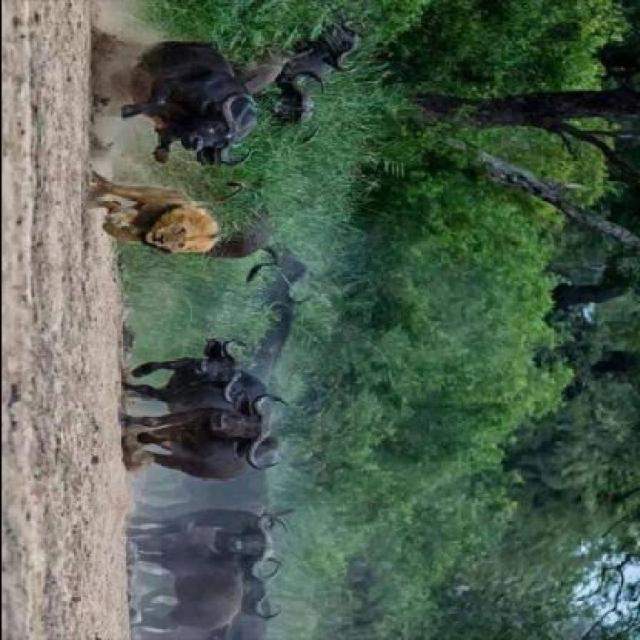Lion: (72, 176, 252, 262)
